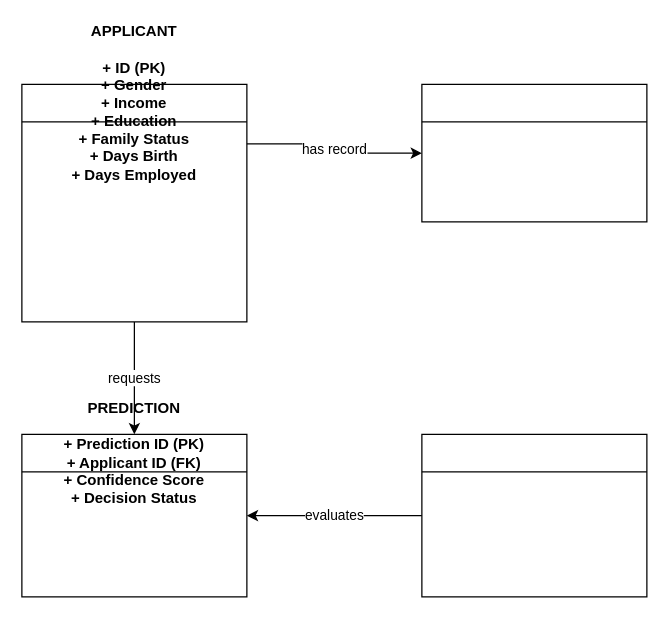
The diagram is 669 pixels wide and 619 high, and some of its shapes have lost their labels. Each missing label, with the centre of its shape:
"CREDIT_RECORD + ID (FK) + Months Balance + Status" goes at point 534,152.
"ML_MODEL + Model Name (PK) + Accuracy + AUC Score + Model File Path" goes at point 534,515.
